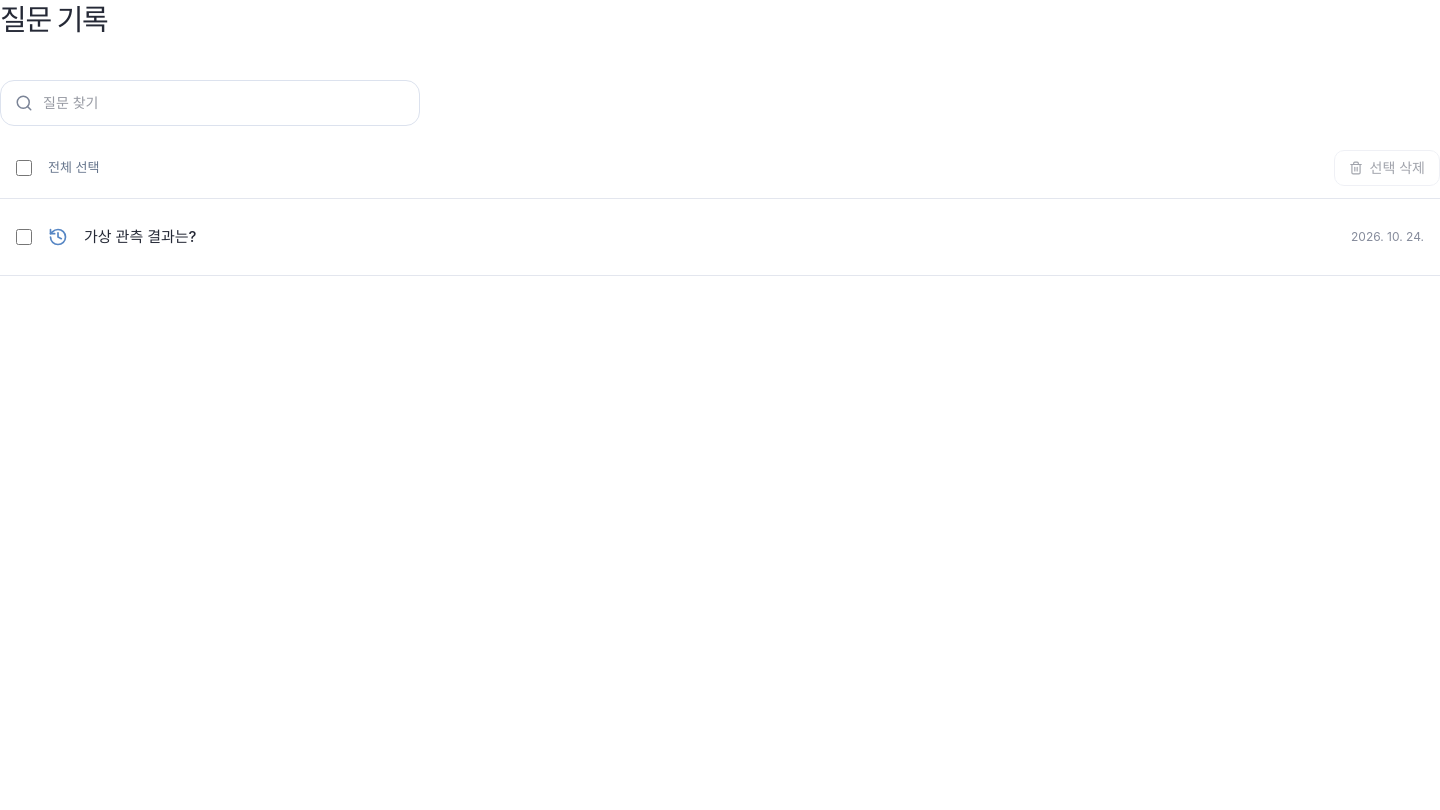
이력에서만 확인 후 삭제하고 실패 시 재시도한다
This screenshot has width=1440, height=810.
Click the checkbox named "가상 관측 결과는? 선택" at (24, 237), box x1=16 y1=229 x2=32 y2=245
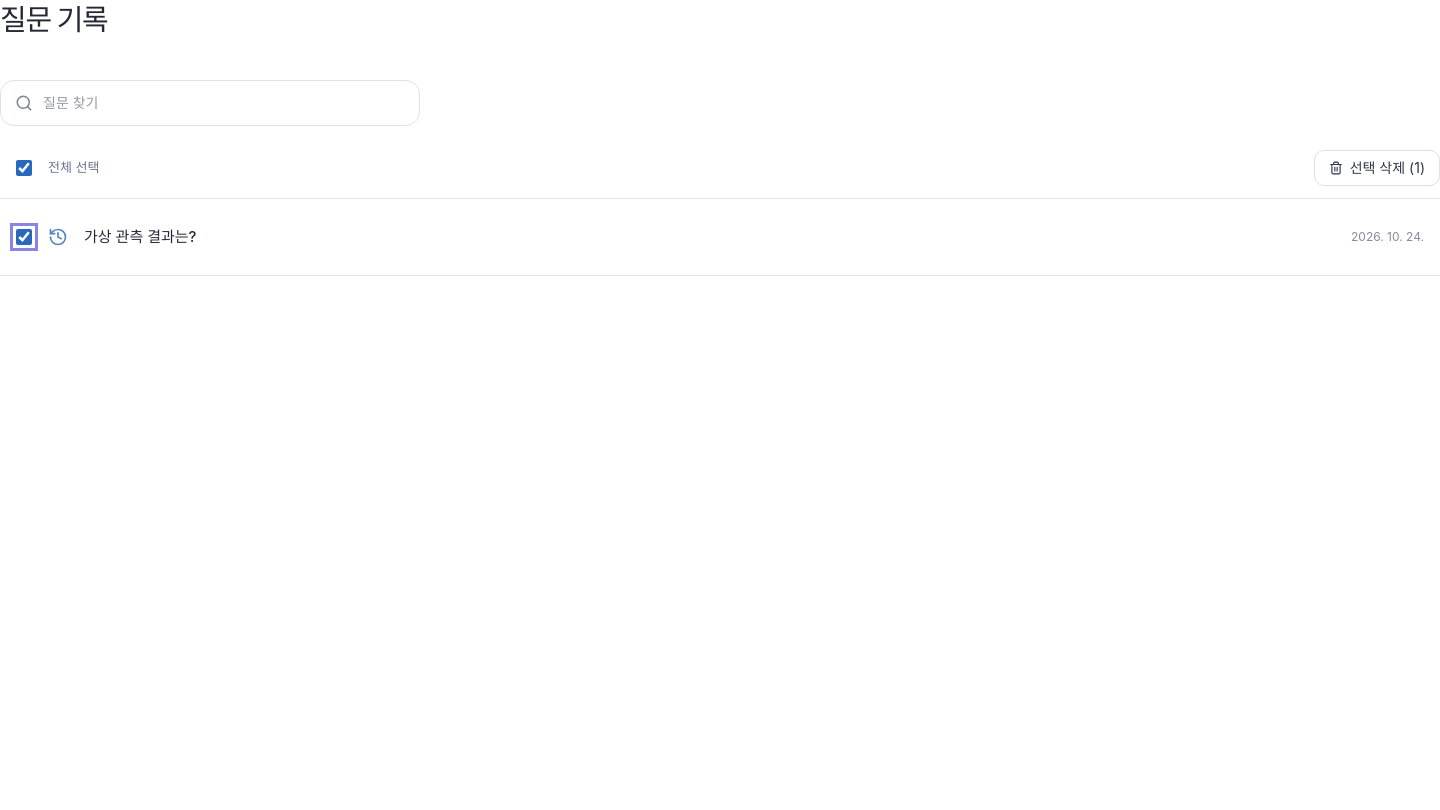
Click the button "선택 삭제 (1)" at (1377, 168), box x1=1314 y1=150 x2=1439 y2=186
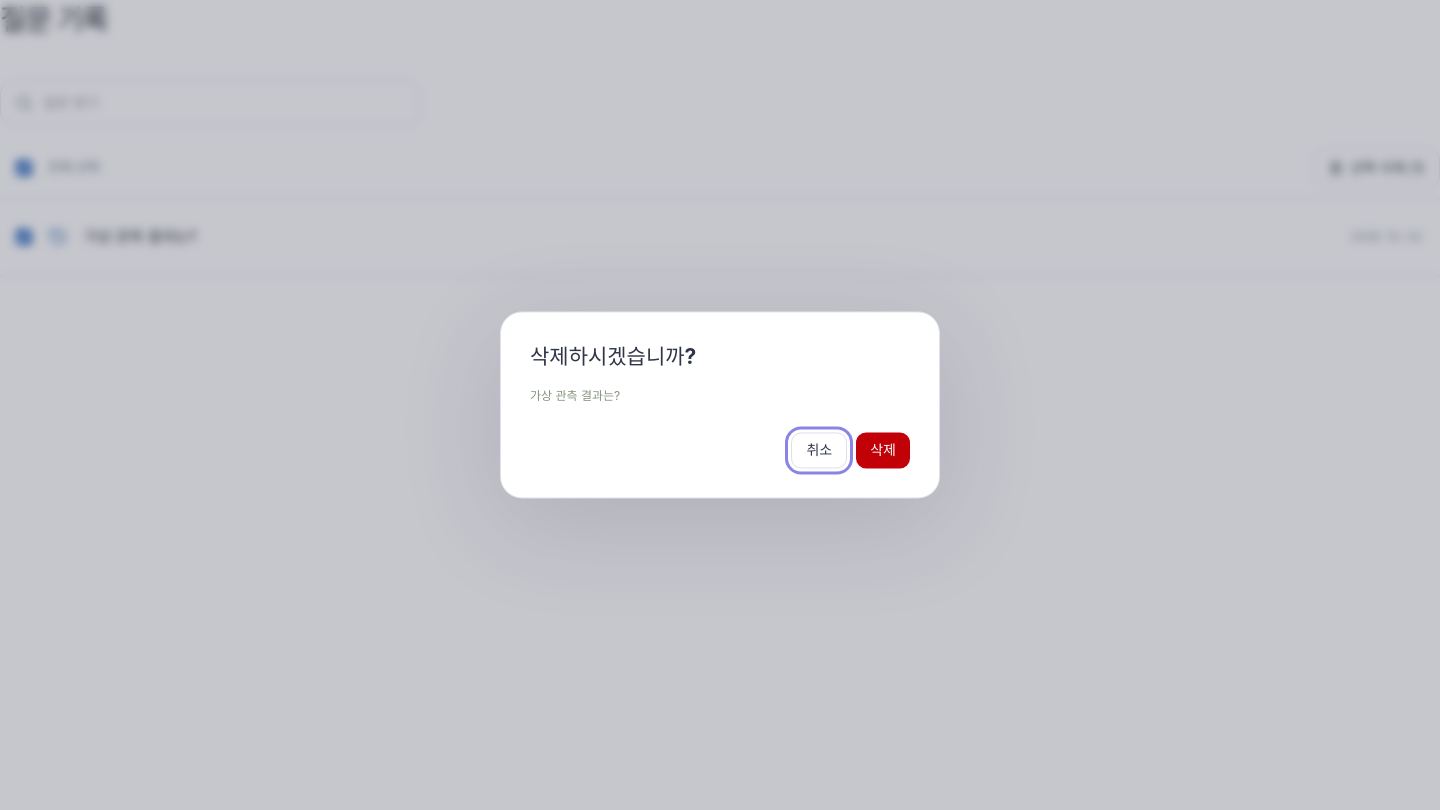
Click the button "취소" at (819, 450), box x1=792 y1=432 x2=847 y2=468
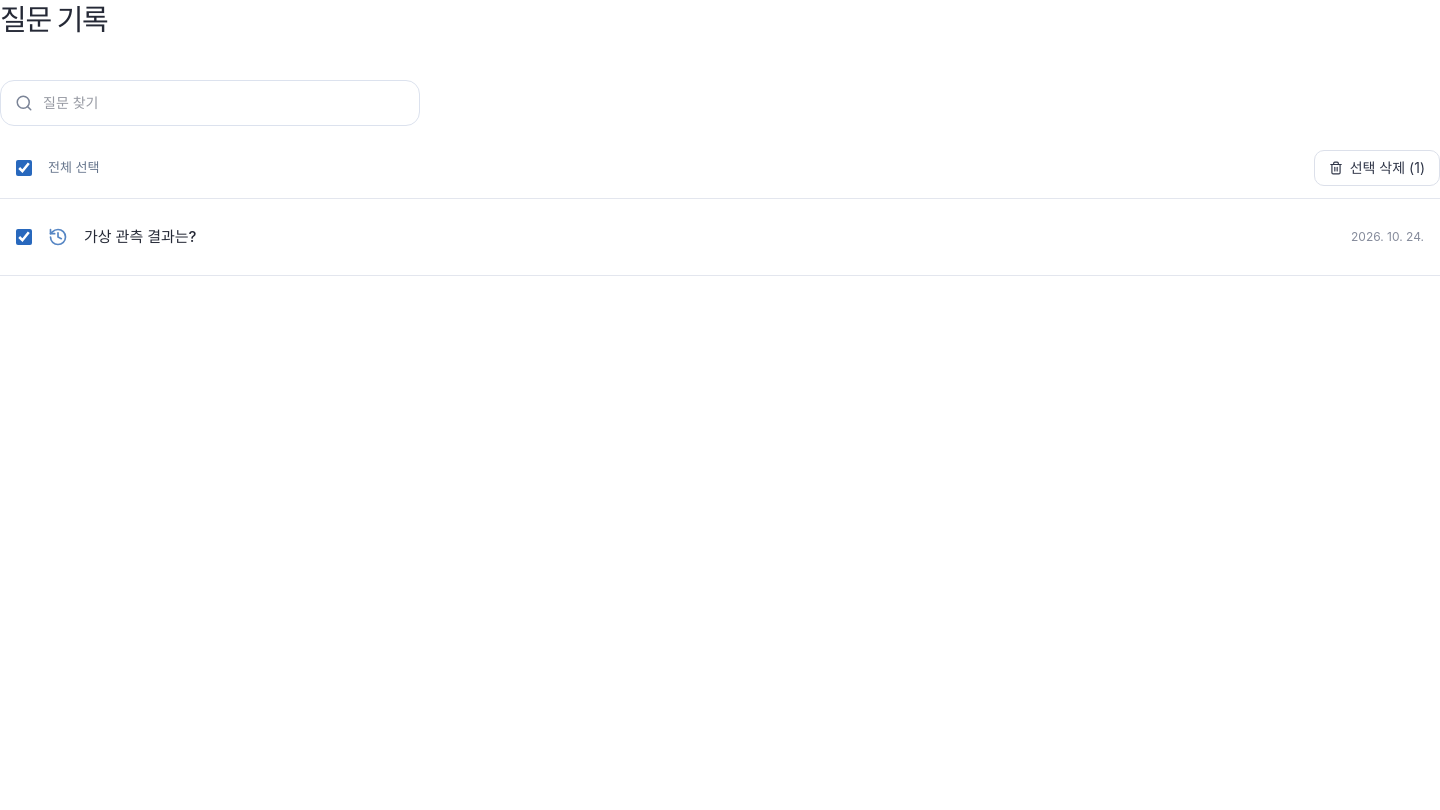
Click the button "선택 삭제 (1)" at (1377, 168), box x1=1314 y1=150 x2=1439 y2=186
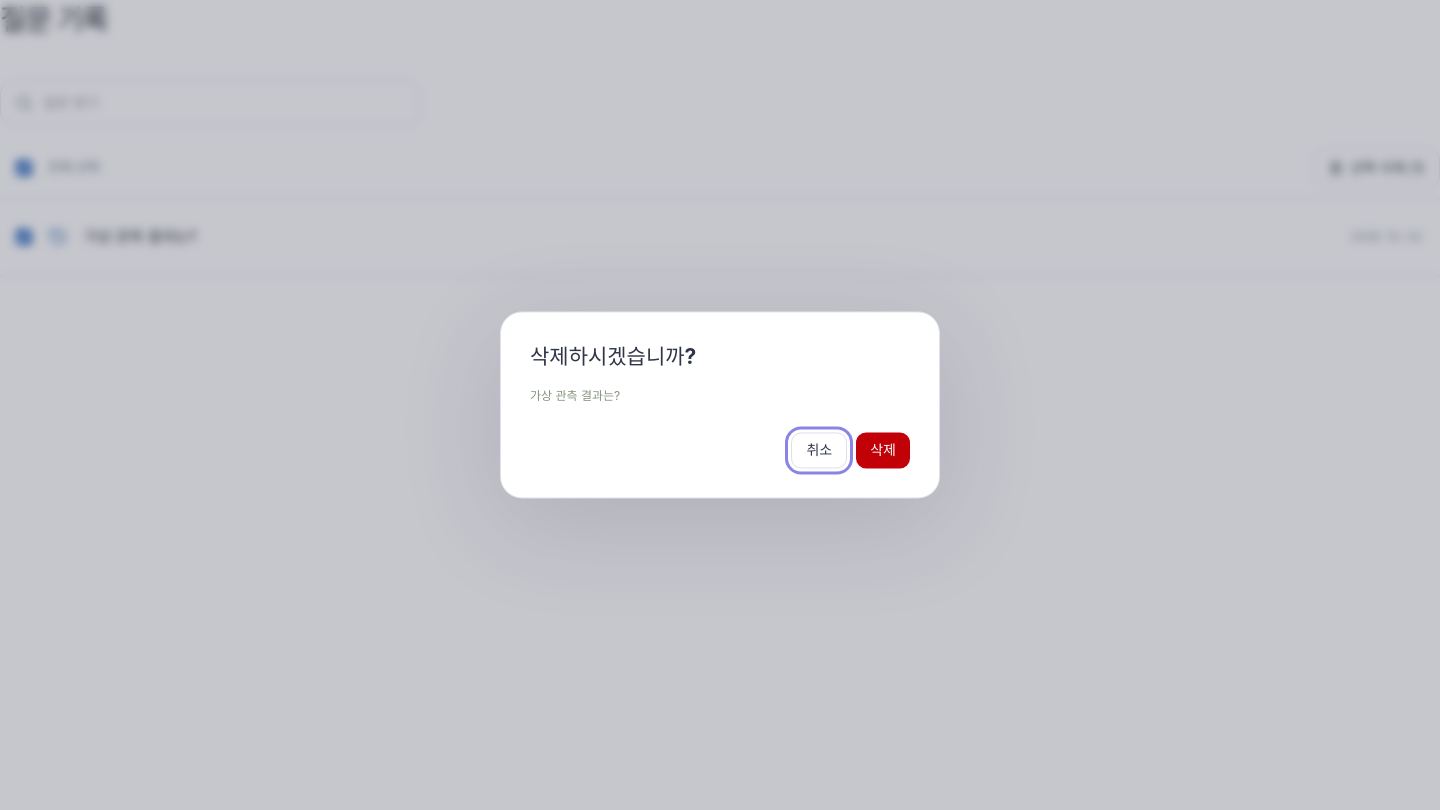
Click the button "삭제" at (883, 450), box x1=856 y1=432 x2=910 y2=468
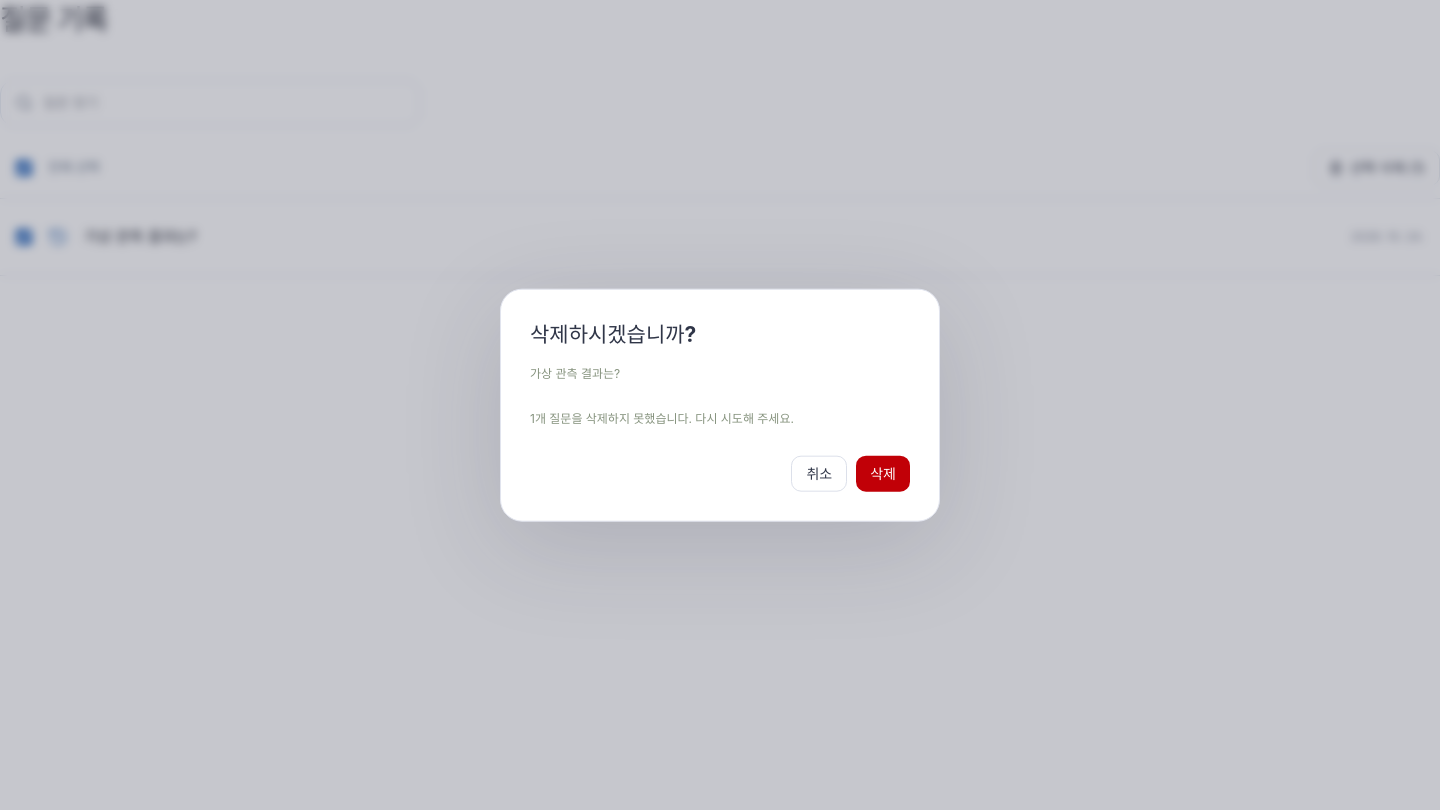
Now the message shows "1개 질문을 삭제하지 못했습니다.", box x1=530 y1=411 x2=794 y2=426
Click the button "삭제" at (883, 473), box x1=856 y1=455 x2=910 y2=491
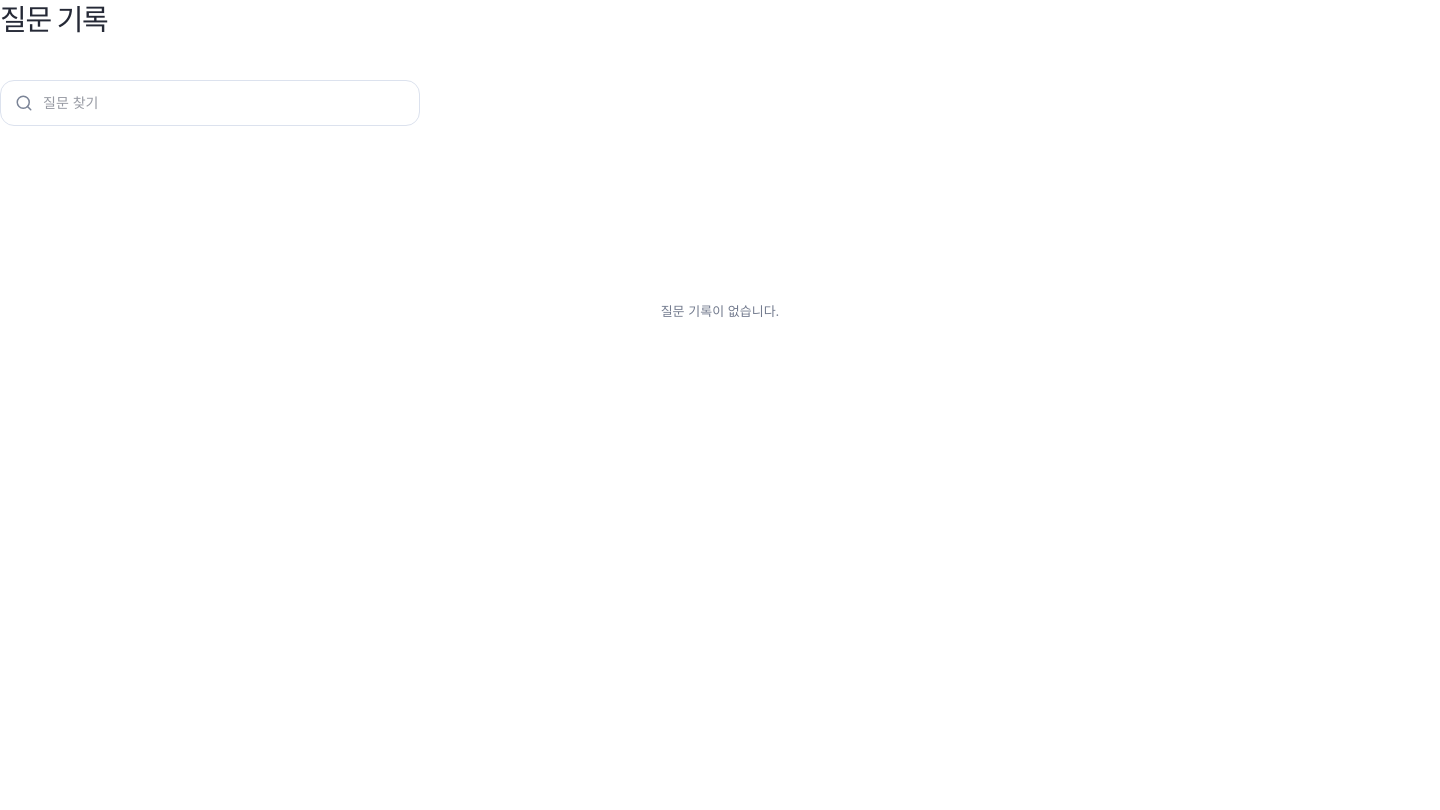
Now the text "질문 기록이 없습니다." is shown, box x1=661 y1=303 x2=779 y2=319
